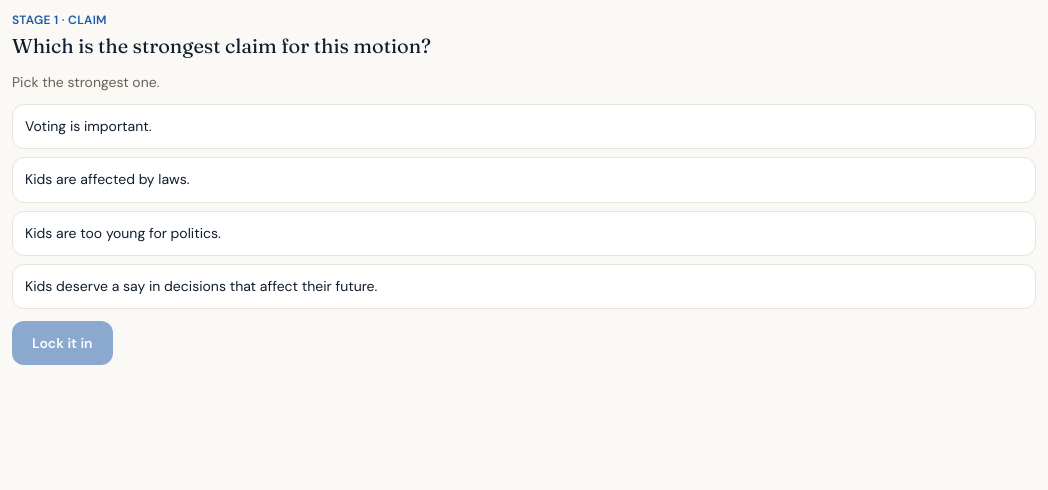
ChoiceStage › surfaces a coach outage without blocking the retry
This screenshot has width=1048, height=490.
Click the radio button labelled "Kids are too young for politics." at coordinates (123, 232), box [12,210,1036,256]
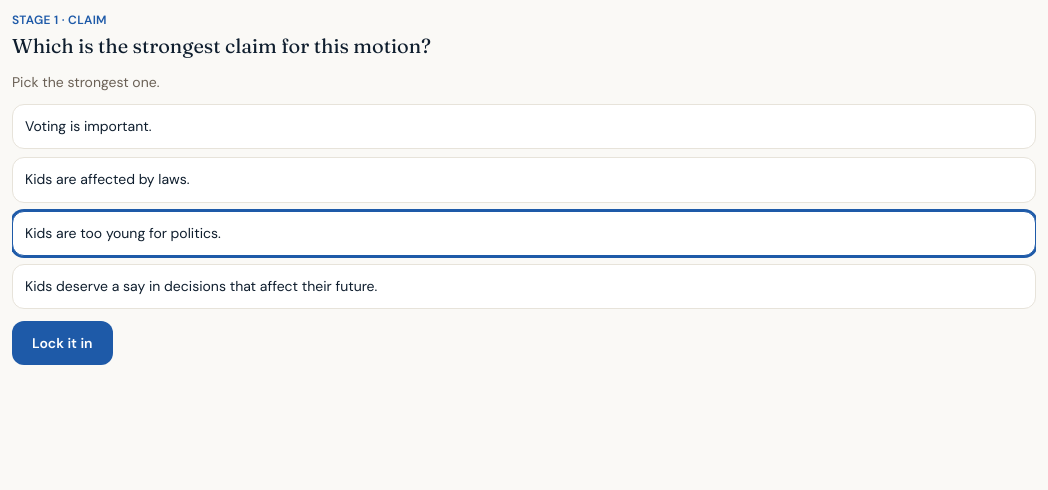
Click the button "Lock it in" at coordinates (62, 343), box [12,321,113,365]
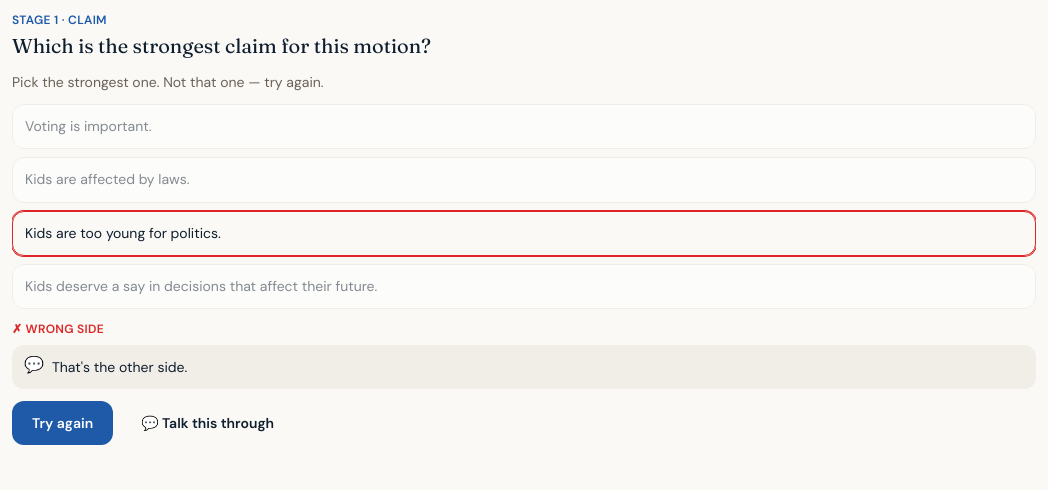
Click the button "💬 Talk this through" at coordinates (208, 423), box [121,401,294,445]
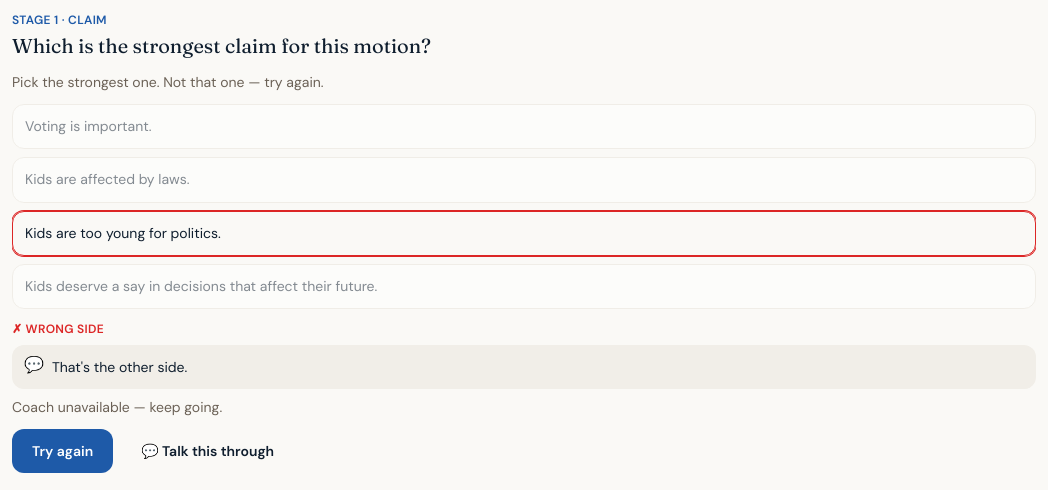
Expected: the button "Try again" is enabled, [12,429,113,473]
Expected: the text "Coach unavailable — keep going." is shown, [12,398,222,416]
